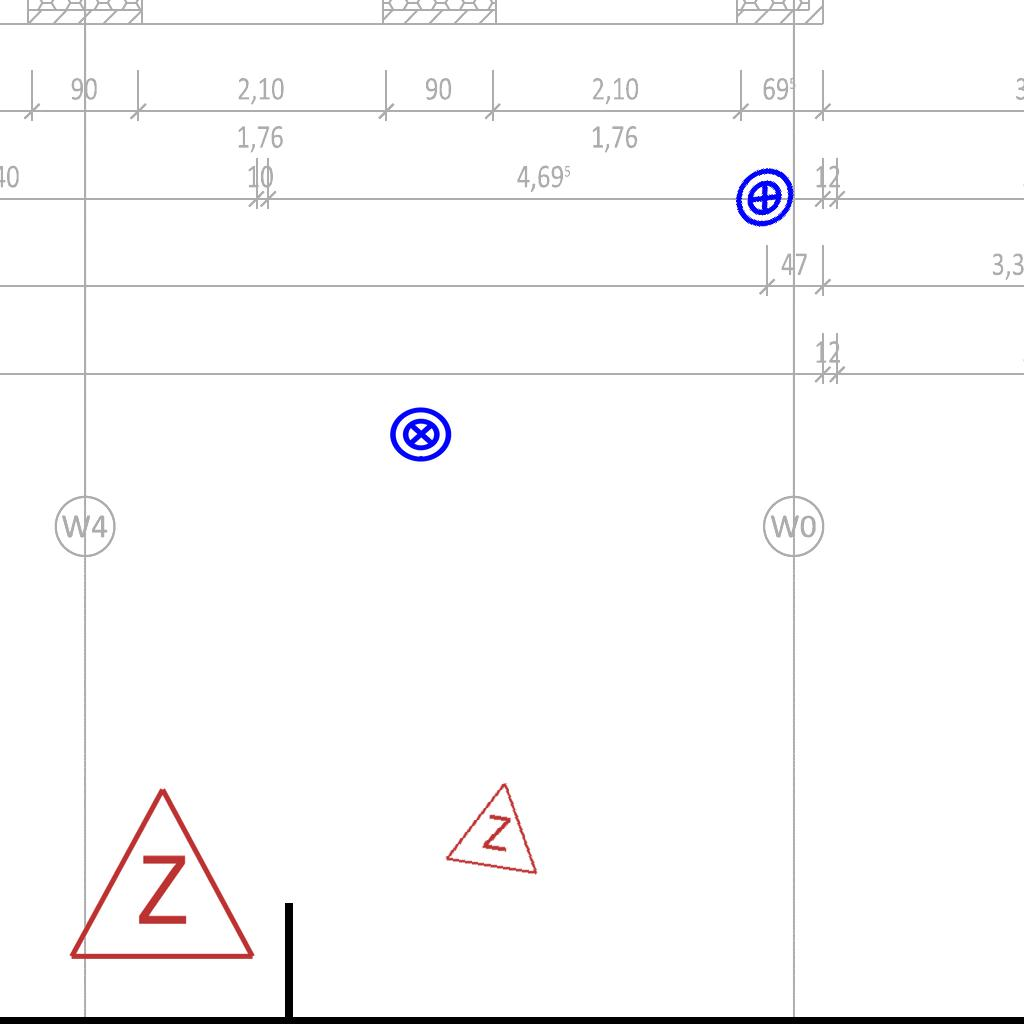Taster_beleuchtet: (718, 151, 812, 245), (388, 401, 454, 467)
Zimmersignalleuchte: (62, 774, 258, 974), (440, 767, 554, 883)
